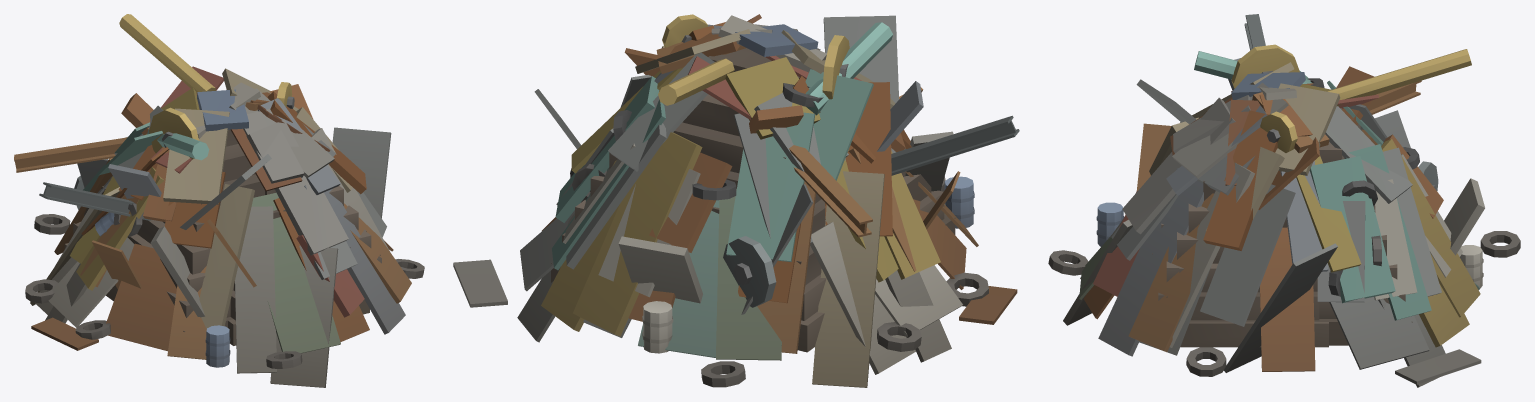
File: heap_b.glb
3 views of the same model, side by side, from view 1: azimuth 30°, elevation 25°; view 2: azimuth 150°, elevation 25°; view 3: azimuth 270°, elevation 25° (orthographic). The views are drawn at different scales.
Parts seen in each view (by area): view 1: heap_b; view 2: heap_b; view 3: heap_b.
Part boxes in pixels (bbox=[...]): heap_b: bbox=[14, 14, 424, 387]; heap_b: bbox=[453, 14, 1019, 387]; heap_b: bbox=[1048, 14, 1520, 387].
Size of the model in its own units: 11.07 by 6.8 by 10.86.
